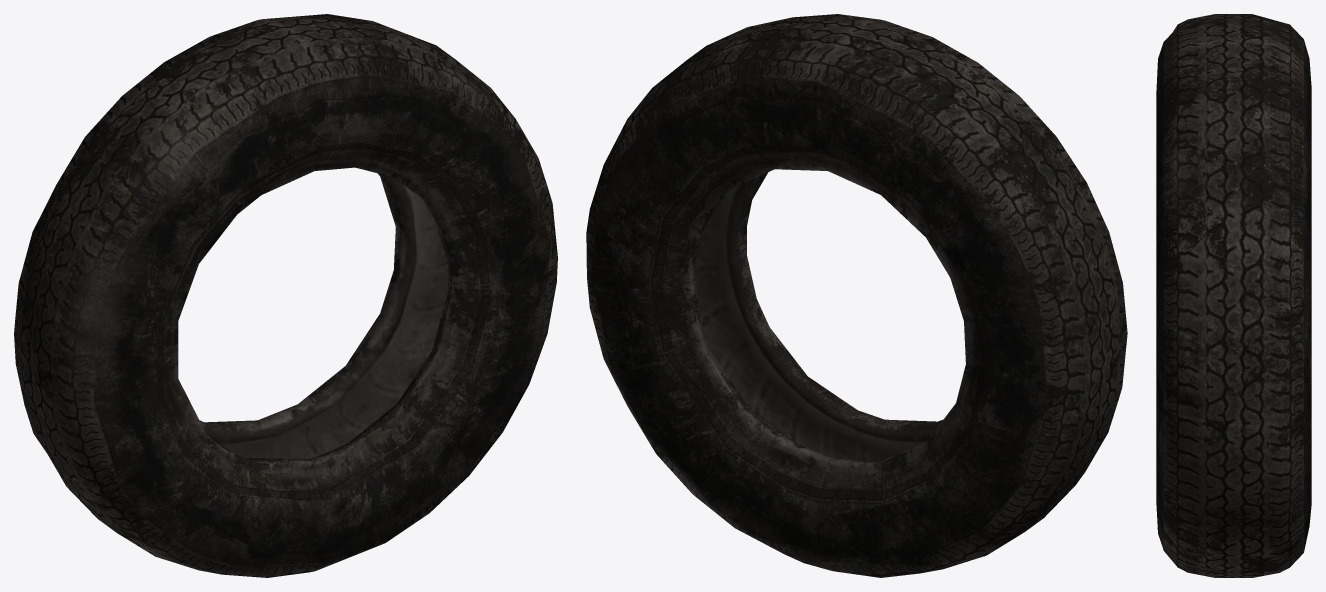
Rendered from old_tyre.glb.
3 renders of one model, left to right at view 1: azimuth 30°, elevation 25°; view 2: azimuth 150°, elevation 25°; view 3: azimuth 270°, elevation 25°, orthographic. The views are drawn at different scales.
Visible parts, largest first — view 1: old_tyre; view 2: old_tyre; view 3: old_tyre.
Part boxes in pixels (x1,y1,x2,y2): old_tyre: (14,14,557,577); old_tyre: (586,14,1127,577); old_tyre: (1156,14,1311,577).
Bounding box in the file's own units: 0.6 × 0.6 × 0.165.
1 material, 1 textured.
